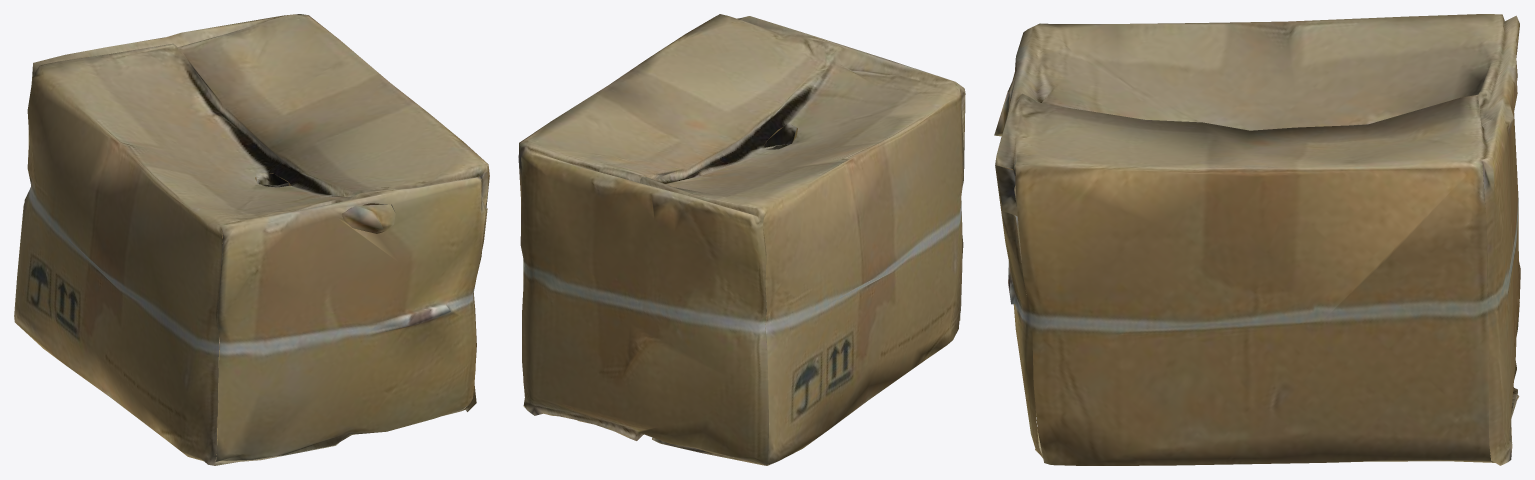
File: box_cardboard.glb
The picture shows the model from 3 angles, left to right: view 1: azimuth 30°, elevation 25°; view 2: azimuth 150°, elevation 25°; view 3: azimuth 270°, elevation 25°; orthographic projection. The views are drawn at different scales.
Visible parts, largest first — view 1: box_cardboard; view 2: box_cardboard; view 3: box_cardboard.
Part boxes in pixels (bbox=[...]): box_cardboard: bbox=[14, 14, 489, 465]; box_cardboard: bbox=[518, 14, 965, 465]; box_cardboard: bbox=[994, 14, 1520, 465].
Bounding box in the file's own units: 0.3872 × 0.3403 × 0.5149.
1 material, 1 textured.
